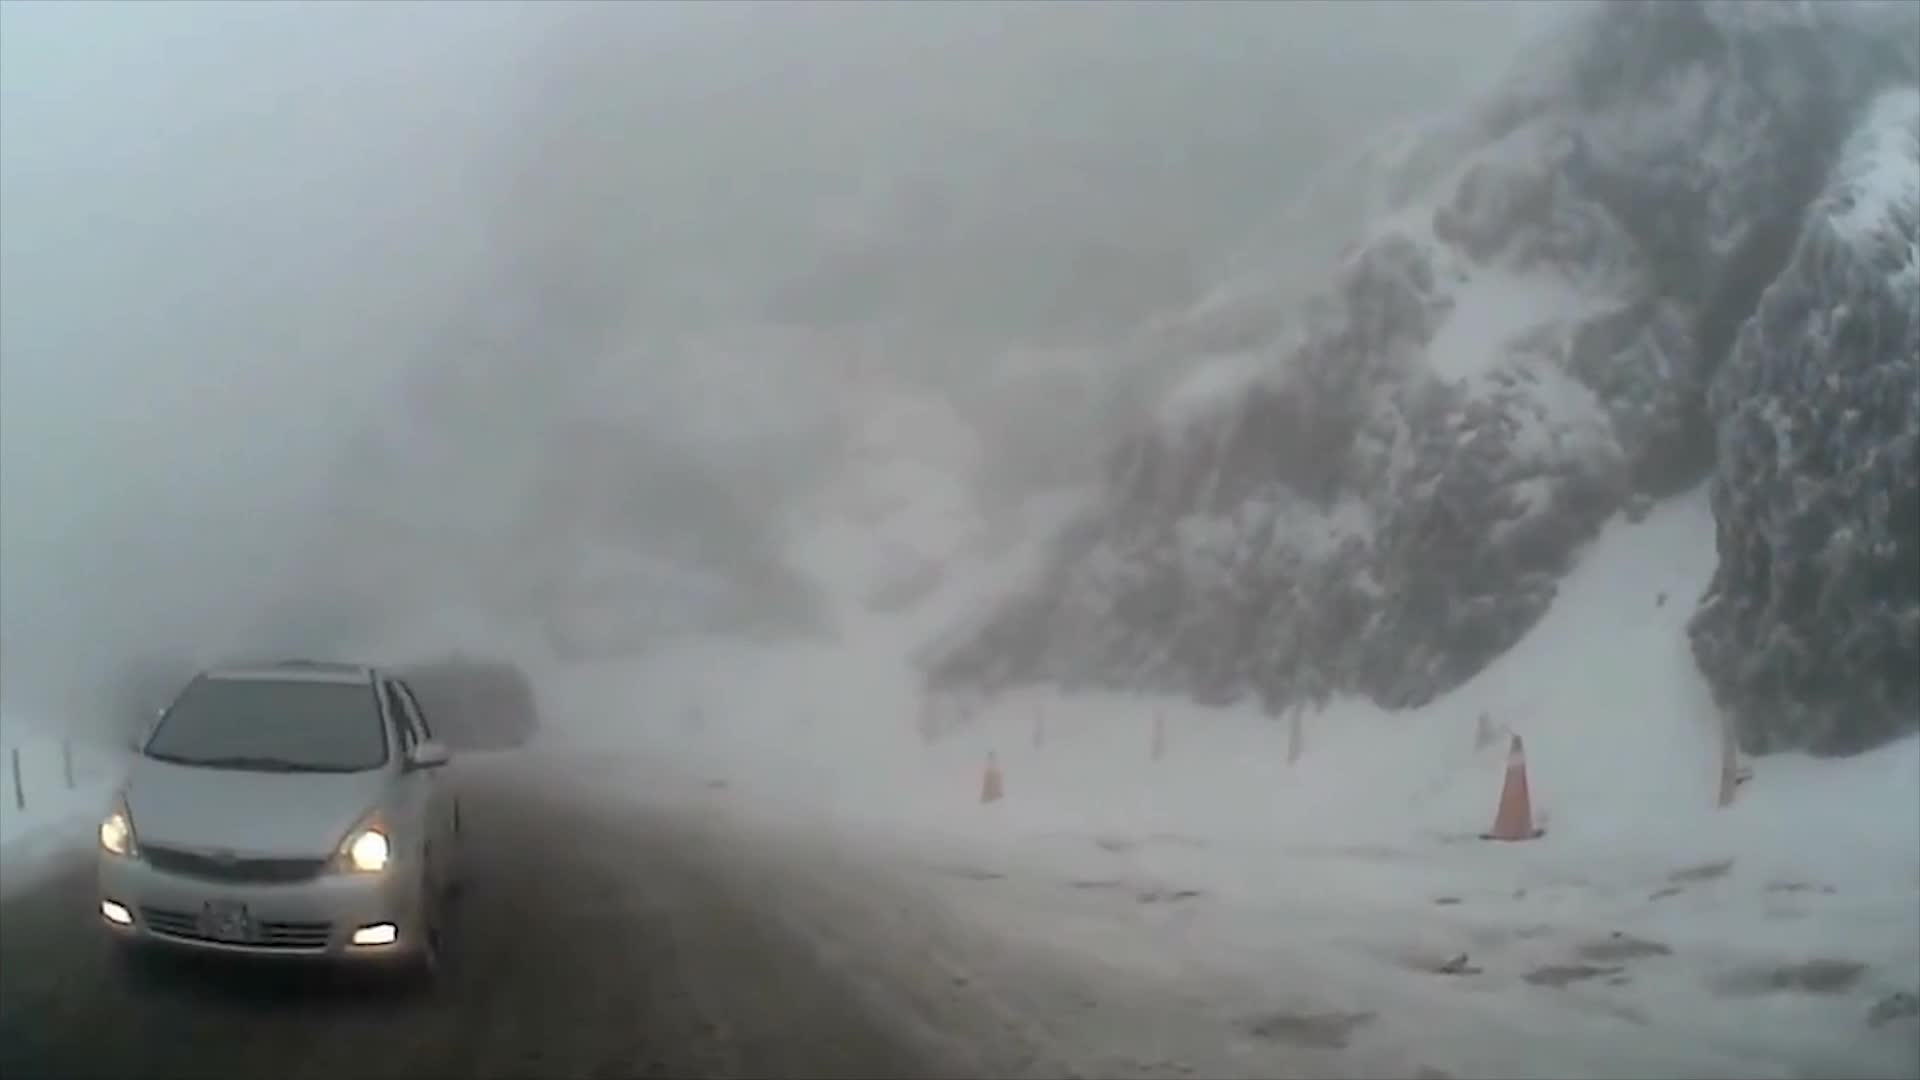vehicle: (94, 657, 469, 992)
